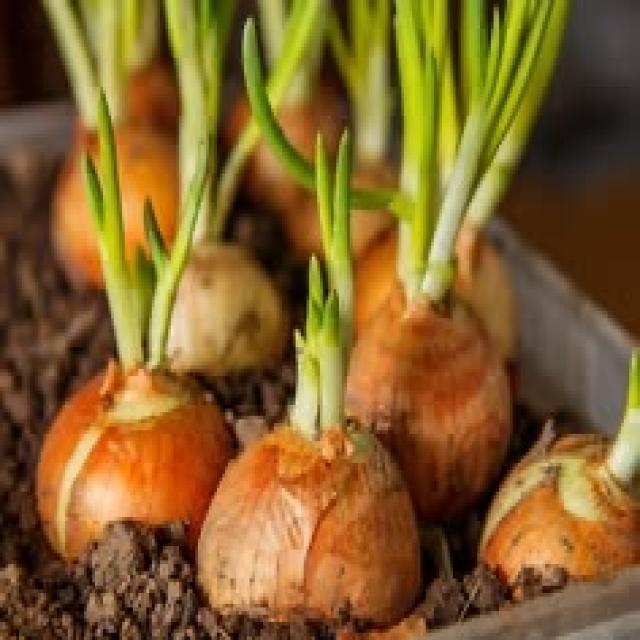sprouting: (51, 117, 211, 549), (266, 161, 390, 640), (371, 0, 488, 456), (519, 383, 640, 623)
